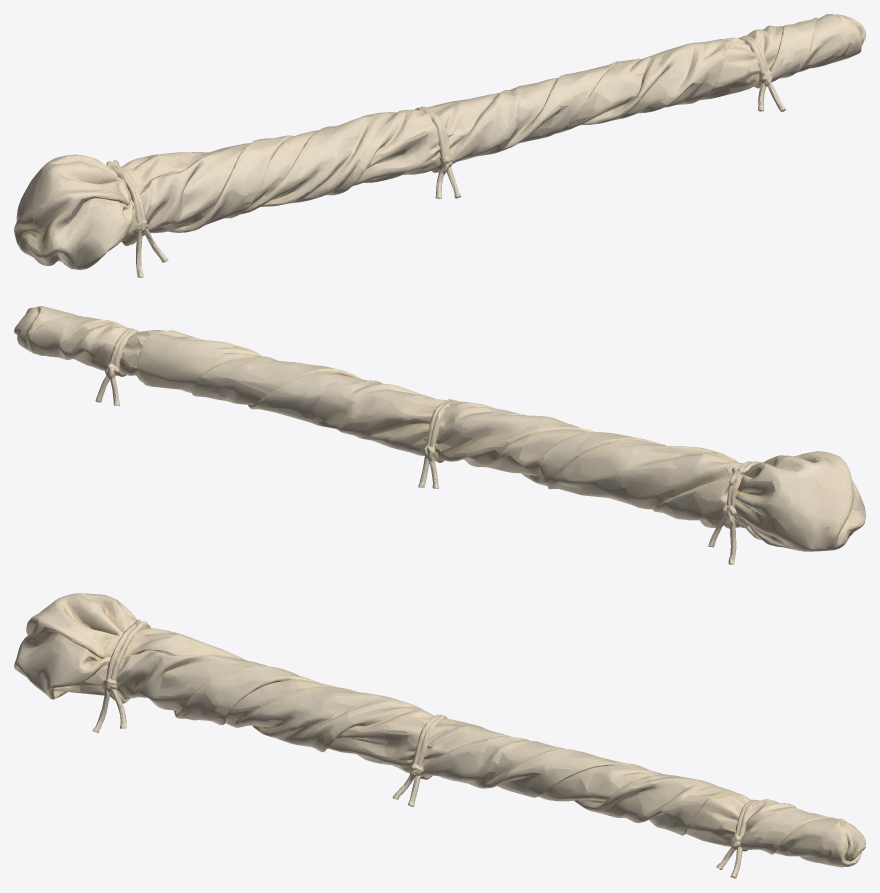
Rendered from w5staffwrap.glb.
3 views of the same model, one above another, from view 1: azimuth 30°, elevation 25°; view 2: azimuth 150°, elevation 25°; view 3: azimuth 330°, elevation 25° (orthographic).
Parts seen in each view (by area): view 1: output_unwrapped; view 2: output_unwrapped; view 3: output_unwrapped.
Part boxes in pixels (bbox=[...]): output_unwrapped: bbox=[14, 14, 865, 277]; output_unwrapped: bbox=[14, 306, 865, 564]; output_unwrapped: bbox=[14, 593, 865, 878].
Size of the model in its own units: 1.5 by 0.1784 by 0.1838.
Materials: 1 (1 with a texture image).
